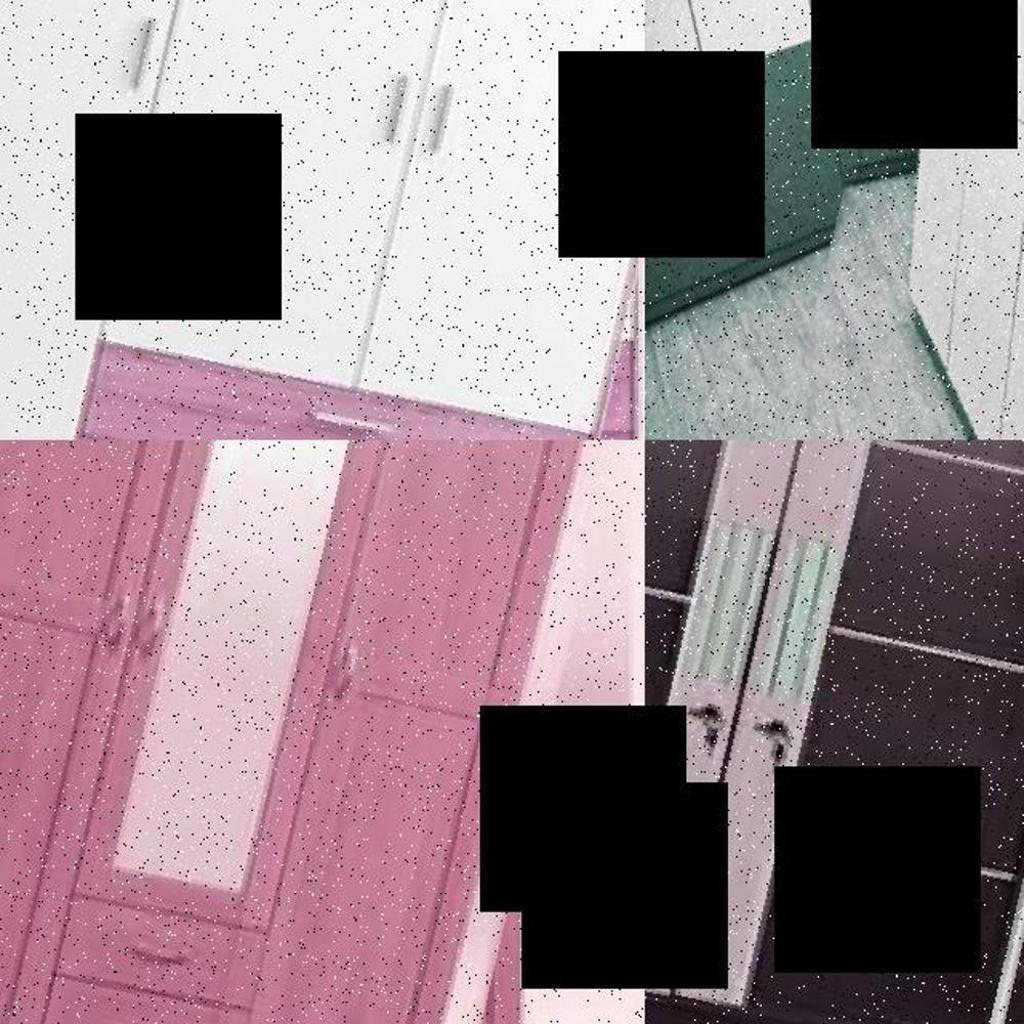cabinet: (0, 440, 610, 1024), (0, 0, 645, 440), (645, 440, 1024, 1024), (797, 0, 1024, 440)
